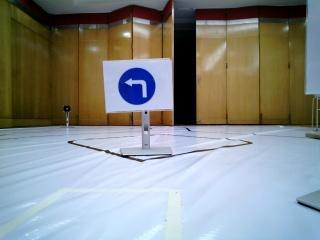left: (103, 63, 170, 111)
